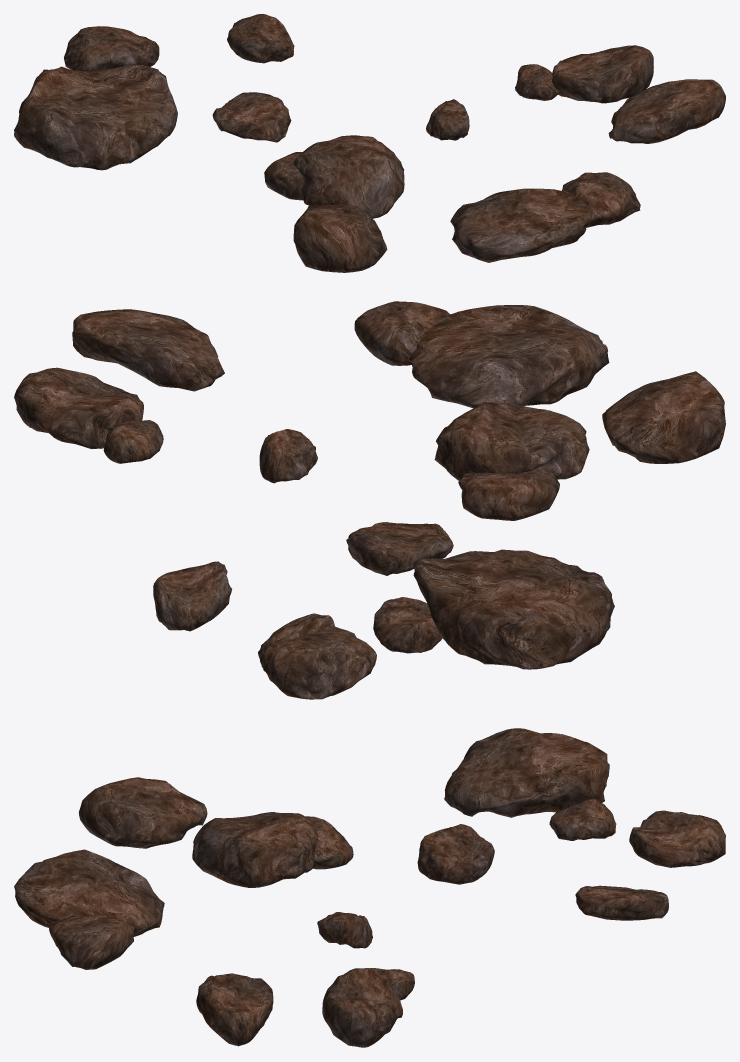
The model's file is shitou_1.fbx.
3 renders of one model, top to bottom at view 1: azimuth 30°, elevation 25°; view 2: azimuth 150°, elevation 25°; view 3: azimuth 270°, elevation 25°, orthographic. The views are drawn at different scales.
Visible parts, largest first — view 1: shitou1:bolder6; view 2: shitou1:bolder6; view 3: shitou1:bolder6.
Part boxes in pixels (x1,y1,x2,y2): shitou1:bolder6: (14, 14, 725, 272); shitou1:bolder6: (14, 301, 725, 699); shitou1:bolder6: (14, 728, 725, 1047).
Size of the model in its own units: 554 by 52.53 by 579.
1 material, 1 textured.
